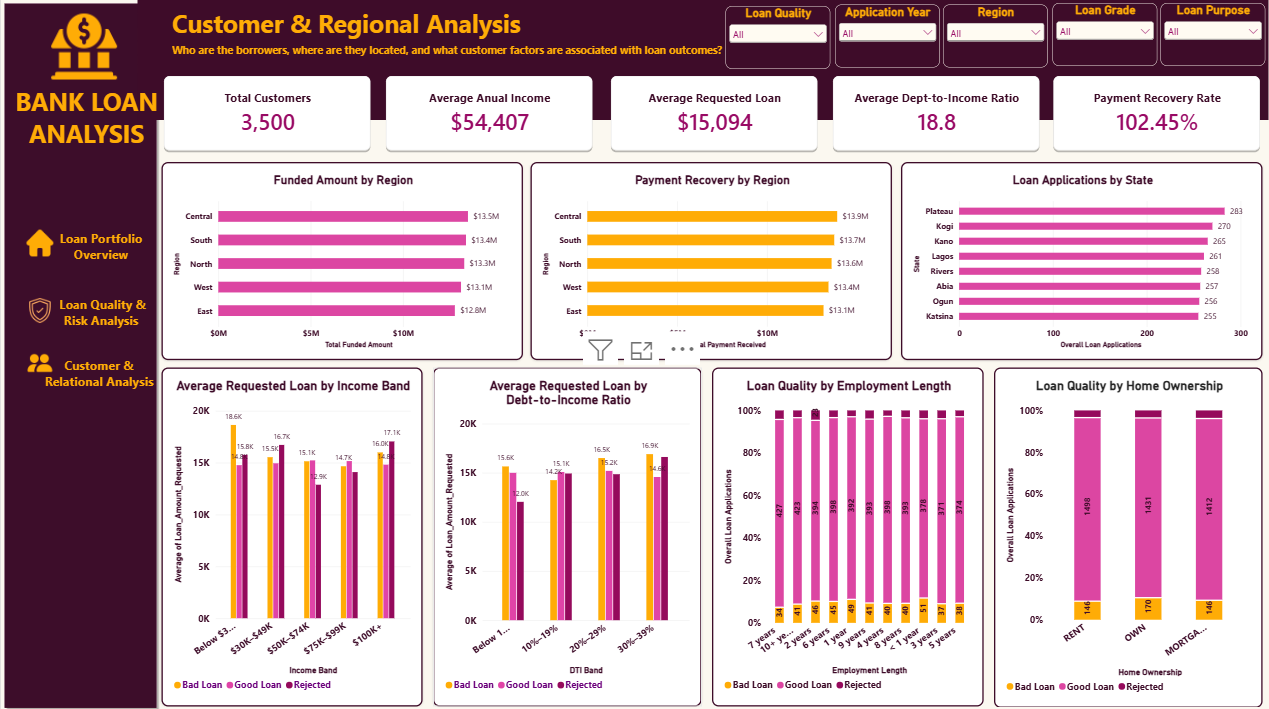

What the dashboard file says about the page in this screenshot:
{"tool":"powerbi","page":{"name":"Customer & Regional Analysis","canvas":[1920,1080],"ordinal":2},"visuals":[{"type":"shape","box":[0,0,240.8,1078.9],"z":0},{"type":"shape","box":[206.7,0,1712.6,181.7],"z":1000},{"type":"textbox","box":[258.9,0,1063,109],"z":2000},{"type":"slicer","title":"Application Year","fields":{"Values":["Date_Table.Year"]},"box":[1262.8,6.8,159,95.4],"z":3000},{"type":"slicer","title":"Region","fields":{"Values":["Bank_Loan_Dataset.Region"]},"box":[1426.4,6.8,159,95.4],"z":4000},{"type":"slicer","title":"Loan Grade","fields":{"Values":["Bank_Loan_Dataset.Grade"]},"box":[1592.2,4.5,159,95.4],"z":5000},{"type":"slicer","title":"Loan Purpose","fields":{"Values":["Bank_Loan_Dataset.Purpose"]},"box":[1755.6,4.5,159,95.4],"z":6000},{"type":"textbox","box":[34.1,347.5,193.1,95.4],"z":7000},{"type":"textbox","box":[34.1,447.4,193.1,77.2],"z":8000},{"type":"image","box":[65.9,20.4,120,100],"z":9000},{"type":"image","box":[38.6,343,40.9,50],"z":10000},{"type":"image","box":[38.6,445.2,40.9,50],"z":11000},{"type":"image","box":[38.6,524.7,40.9,50],"z":12000},{"type":"textbox","box":[56.8,540.6,184,134],"z":13000},{"type":"cardVisual","fields":{"Data":["Dax Measures.Total Customers"]},"box":[243,111,320,120],"z":14000},{"type":"cardVisual","fields":{"Data":["Dax Measures.Average Anual Income"]},"box":[579.2,111,320,120],"z":15000},{"type":"cardVisual","fields":{"Data":["Dax Measures.Average Requested Loan"]},"box":[919,111,320,120],"z":16000},{"type":"cardVisual","fields":{"Data":["Dax Measures.Average Dept-to-Income Ratio"]},"box":[1256,111,320,120],"z":17000},{"type":"cardVisual","fields":{"Data":["Dax Measures.Payment Recovery Rate"]},"box":[1589.9,111,320,120],"z":18000},{"type":"slicer","title":"Loan Quality","fields":{"Values":["Bank_Loan_Dataset.Loan_Quality"]},"box":[1097,9.1,159,95.4],"z":19000},{"type":"textbox","box":[15.9,118.1,227.1,127.2],"z":20000},{"type":"barChart","title":"Funded Amount by Region","fields":{"Category":["Bank_Loan_Dataset.Region"],"Y":["Dax Measures.Total Funded Amount"]},"box":[243,244.7,547,300],"z":21000},{"type":"barChart","title":"Payment Recovery by Region","fields":{"Category":["Bank_Loan_Dataset.Region"],"Y":["Dax Measures.Total Payment Received"]},"box":[801.8,245.3,547.4,299.8],"z":22000},{"type":"barChart","title":"Loan Applications by State","fields":{"Category":["Bank_Loan_Dataset.State"],"Y":["Dax Measures.Total Loan Applications"]},"box":[1362.8,244.7,547,299.8],"z":23000},{"type":"hundredPercentStackedColumnChart","title":"Loan Quality by Employment Length  ","fields":{"Category":["Bank_Loan_Dataset.Employment_Length"],"Series":["Bank_Loan_Dataset.Loan_Quality"],"Y":["Dax Measures.Overall Loan Applications"]},"box":[1076.6,556.5,411.1,513.3],"z":26000},{"type":"hundredPercentStackedColumnChart","title":"Loan Quality by Home Ownership","fields":{"Category":["Bank_Loan_Dataset.Home_Ownership"],"Series":["Bank_Loan_Dataset.Loan_Quality"],"Y":["Dax Measures.Total Loan Applications"]},"box":[1503.6,556.5,406.6,515.6],"z":27000},{"type":"clusteredColumnChart","title":"Average Requested Loan by Income Band","fields":{"Category":["Bank_Loan_Dataset.Income_Band"],"Series":["Bank_Loan_Dataset.Loan_Quality"],"Y":["Avg(Bank_Loan_Dataset.Loan_Amount_Requested)"]},"box":[243,556.5,395.2,513.3],"z":27001},{"type":"clusteredColumnChart","title":"Average Requested Loan by Debt-to-Income Ratio","fields":{"Category":["Bank_Loan_Dataset.DTI_Band"],"Series":["Bank_Loan_Dataset.Loan_Quality"],"Y":["Avg(Bank_Loan_Dataset.Loan_Amount_Requested)"]},"box":[654.1,556.5,406.6,513.3],"z":27002}]}

Visuals, with their boxes in screenshot pixels (x1, y1, x2, y2), scaled from the page's 1920x1080 canvas onto the 1269x709 screenshot:
shape: [x1=0, y1=0, x2=159, y2=708]
shape: [x1=137, y1=0, x2=1268, y2=119]
textbox: [x1=171, y1=0, x2=874, y2=72]
"Application Year" slicer: [x1=835, y1=4, x2=940, y2=67]
"Region" slicer: [x1=943, y1=4, x2=1048, y2=67]
"Loan Grade" slicer: [x1=1052, y1=3, x2=1157, y2=66]
"Loan Purpose" slicer: [x1=1160, y1=3, x2=1265, y2=66]
textbox: [x1=23, y1=228, x2=150, y2=291]
textbox: [x1=23, y1=294, x2=150, y2=344]
image: [x1=44, y1=13, x2=123, y2=79]
image: [x1=26, y1=225, x2=53, y2=258]
image: [x1=26, y1=292, x2=53, y2=325]
image: [x1=26, y1=344, x2=53, y2=377]
textbox: [x1=38, y1=355, x2=159, y2=443]
cardVisual - Dax Measures.Total Customers: [x1=161, y1=73, x2=372, y2=152]
cardVisual - Dax Measures.Average Anual Income: [x1=383, y1=73, x2=594, y2=152]
cardVisual - Dax Measures.Average Requested Loan: [x1=607, y1=73, x2=819, y2=152]
cardVisual - Dax Measures.Average Dept-to-Income Ratio: [x1=830, y1=73, x2=1042, y2=152]
cardVisual - Dax Measures.Payment Recovery Rate: [x1=1051, y1=73, x2=1262, y2=152]
"Loan Quality" slicer: [x1=725, y1=6, x2=830, y2=69]
textbox: [x1=11, y1=78, x2=161, y2=161]
"Funded Amount by Region" barChart: [x1=161, y1=161, x2=522, y2=358]
"Payment Recovery by Region" barChart: [x1=530, y1=161, x2=892, y2=358]
"Loan Applications by State" barChart: [x1=901, y1=161, x2=1262, y2=357]
"Loan Quality by Employment Length  " hundredPercentStackedColumnChart: [x1=712, y1=365, x2=983, y2=702]
"Loan Quality by Home Ownership" hundredPercentStackedColumnChart: [x1=994, y1=365, x2=1263, y2=704]
"Average Requested Loan by Income Band" clusteredColumnChart: [x1=161, y1=365, x2=422, y2=702]
"Average Requested Loan by Debt-to-Income Ratio" clusteredColumnChart: [x1=432, y1=365, x2=701, y2=702]
